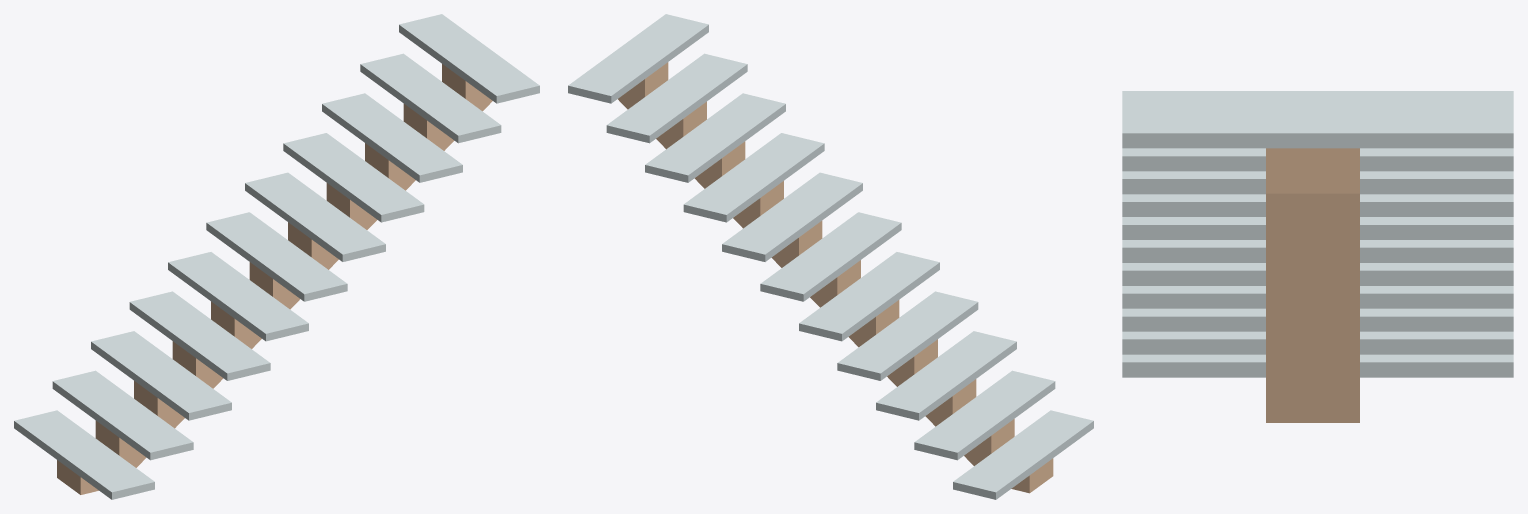
The model's file is stairsOpenSingle-col.glb.
3 views of the same model, side by side, from view 1: azimuth 30°, elevation 25°; view 2: azimuth 150°, elevation 25°; view 3: azimuth 270°, elevation 25° (orthographic). The views are drawn at different scales.
Parts seen in each view (by area): view 1: stairsOpenSingle-col; view 2: stairsOpenSingle-col; view 3: stairsOpenSingle-col.
Part boxes in pixels (x1,y1,x2,y2): stairsOpenSingle-col: (14, 14, 539, 499); stairsOpenSingle-col: (568, 14, 1093, 499); stairsOpenSingle-col: (1122, 91, 1513, 422).
Bounding box in the file's own units: 2.02 × 1.5 × 0.8.
